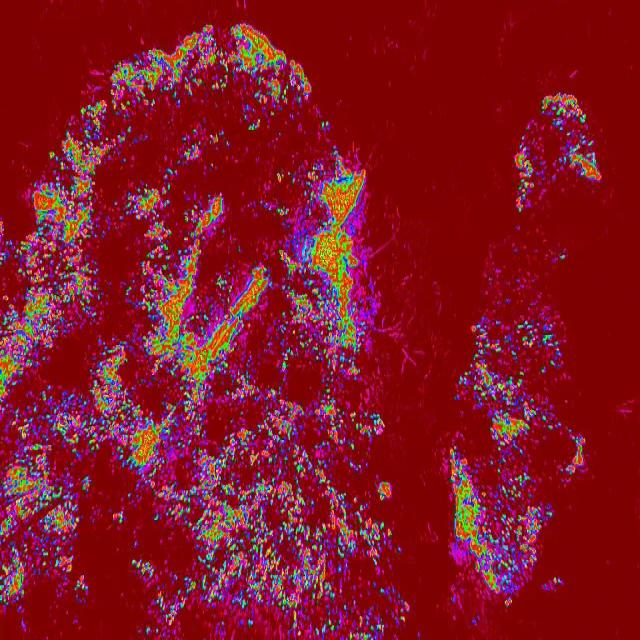fire: (0, 224, 384, 446), (0, 446, 393, 584), (0, 584, 411, 638), (28, 161, 369, 224), (50, 98, 340, 162), (444, 456, 552, 596), (447, 319, 568, 441), (110, 48, 312, 97), (176, 22, 274, 46), (511, 146, 541, 210), (539, 92, 589, 124), (563, 146, 603, 182), (566, 433, 590, 478)
